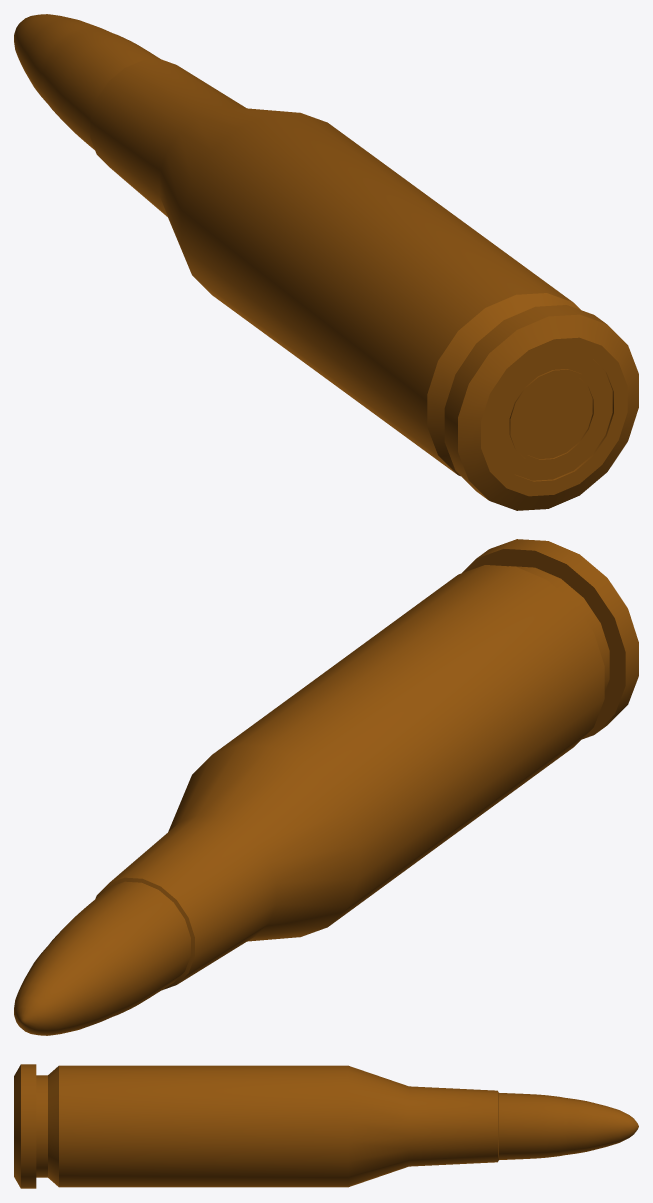
The model's file is Патрон.fbx.
The picture shows the model from 3 angles, top to bottom: view 1: azimuth 30°, elevation 25°; view 2: azimuth 150°, elevation 25°; view 3: azimuth 270°, elevation 25°; orthographic projection. The views are drawn at different scales.
Visible parts, largest first — view 1: Гильза, Пуля; view 2: Гильза, Пуля; view 3: Гильза, Пуля.
Boxes of the visible parts, box(x1,y1,x2,y2) form: Гильза: box(90, 59, 638, 510); Пуля: box(14, 14, 160, 149); Гильза: box(95, 539, 638, 990); Пуля: box(14, 881, 190, 1035); Гильза: box(14, 1064, 498, 1188); Пуля: box(499, 1093, 638, 1159).
Bounding box in the file's own units: 0.029 × 0.0294 × 0.1473.
